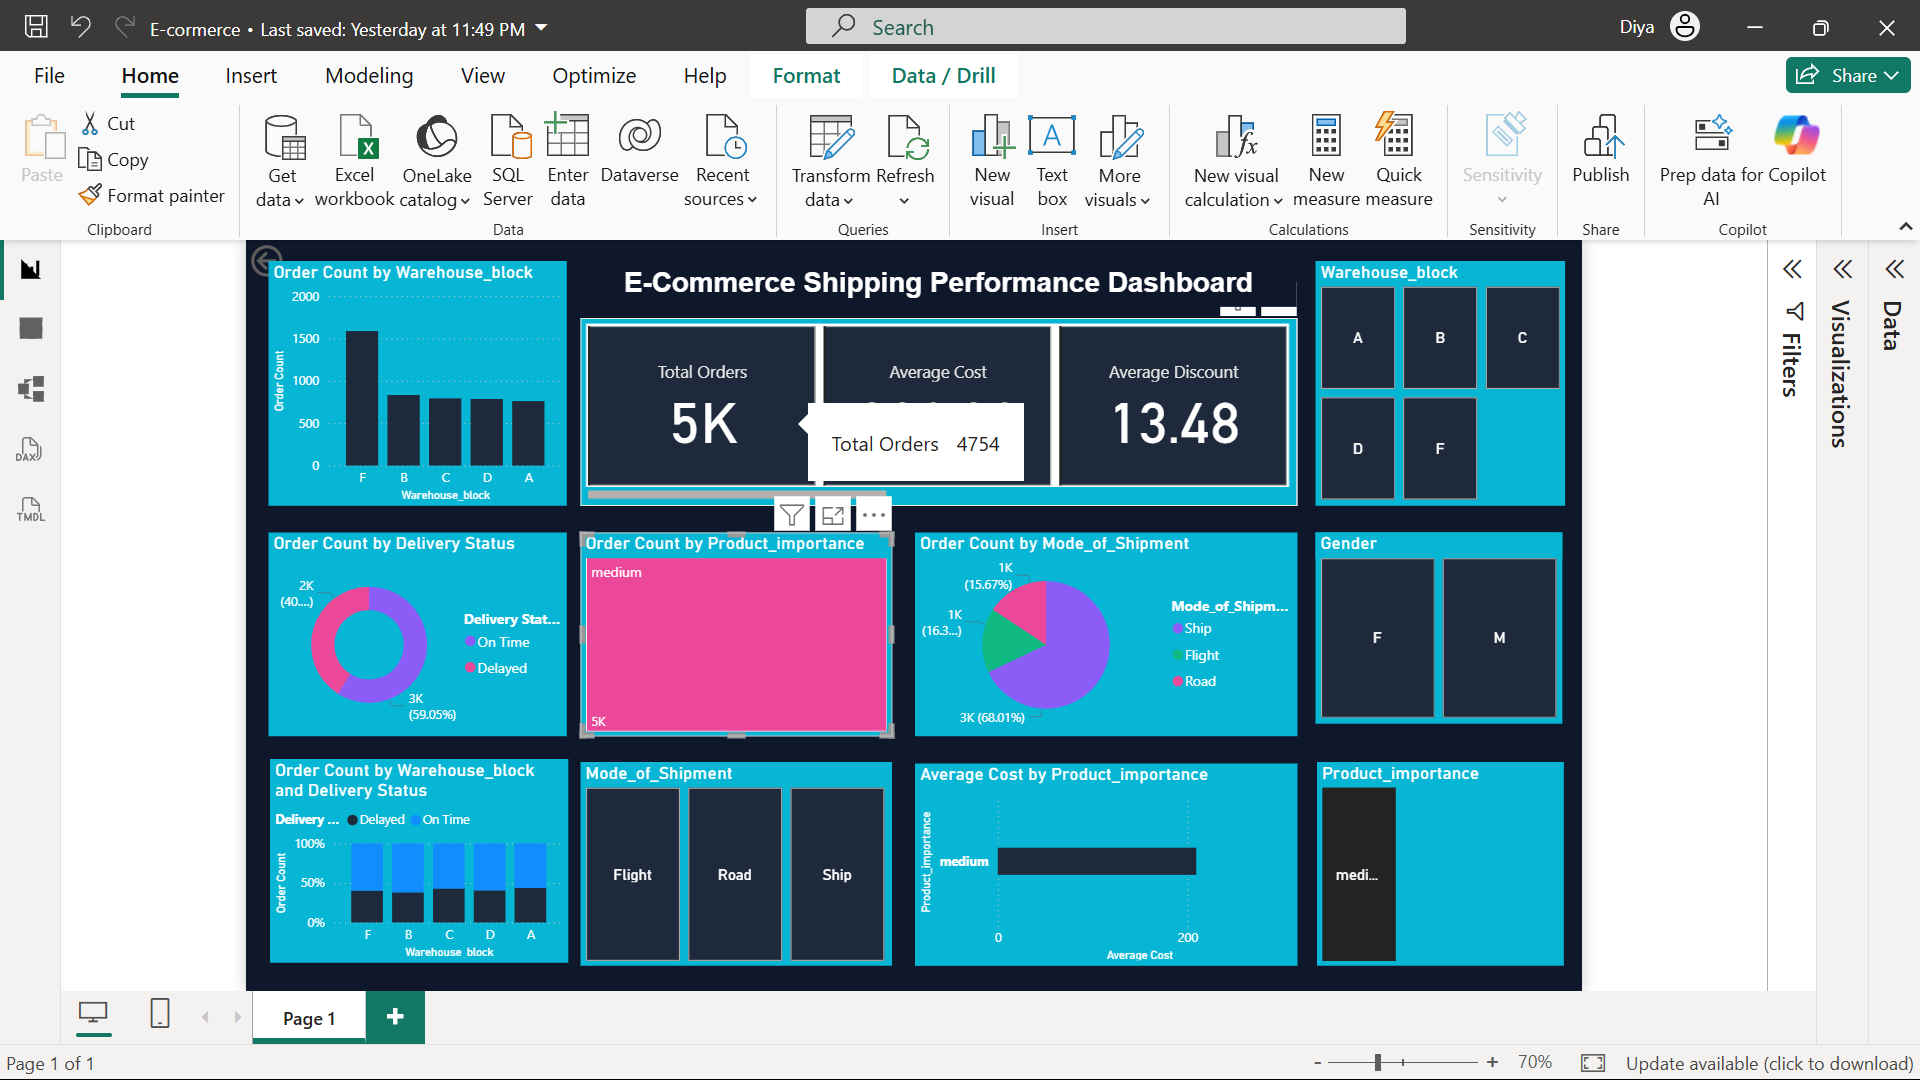

The page's visual inventory and layout, read from the dashboard file:
{"tool":"powerbi","page":{"name":"Page 1","canvas":[1280,720],"ordinal":0},"visuals":[{"type":"cardVisual","fields":{"Data":["Ecommerce Shipping Data.Total Orders","Ecommerce Shipping Data.Average Cost","Ecommerce Shipping Data.Average Discount","Ecommerce Shipping Data.Average Rating","Ecommerce Shipping Data.Average Weight","Ecommerce Shipping Data.Delayed %","Ecommerce Shipping Data.On Time %"]},"box":[321.2,74.2,686.4,180.3],"z":0},{"type":"actionButton","box":[0,0,100,40],"z":1000},{"type":"treemap","fields":{"Group":["Ecommerce Shipping Data.Product_importance"],"Values":["Ecommerce Shipping Data.Order Count"]},"box":[321.2,280.3,298.5,195.5],"z":2000},{"type":"clusteredColumnChart","fields":{"Category":["Ecommerce Shipping Data.Warehouse_block"],"Y":["Ecommerce Shipping Data.Order Count"]},"box":[21.2,19.7,286.2,234.7],"z":3000},{"type":"pieChart","fields":{"Category":["Ecommerce Shipping Data.Mode_of_Shipment"],"Y":["Ecommerce Shipping Data.Order Count"]},"box":[640.9,280.3,366.7,195.5],"z":4000},{"type":"donutChart","fields":{"Category":["Ecommerce Shipping Data.Delivery Status"],"Y":["Ecommerce Shipping Data.Order Count"]},"box":[21.2,280.1,286.2,195.3],"z":5000},{"type":"hundredPercentStackedColumnChart","fields":{"Category":["Ecommerce Shipping Data.Warehouse_block"],"Y":["Ecommerce Shipping Data.Order Count"],"Series":["Ecommerce Shipping Data.Delivery Status"]},"box":[22.7,498.2,286.2,195.3],"z":6000},{"type":"advancedSlicerVisual","fields":{"Values":["Ecommerce Shipping Data.Warehouse_block"]},"box":[1025.8,19.7,239.4,234.8],"z":7000},{"type":"advancedSlicerVisual","fields":{"Values":["Ecommerce Shipping Data.Mode_of_Shipment"]},"box":[321.2,500,298.5,195.5],"z":8000},{"type":"advancedSlicerVisual","fields":{"Values":["Ecommerce Shipping Data.Gender"]},"box":[1025.8,280.3,236.4,183.3],"z":9000},{"type":"advancedSlicerVisual","fields":{"Values":["Ecommerce Shipping Data.Product_importance"]},"box":[1027.3,500,236.4,195.5],"z":10000},{"type":"clusteredBarChart","fields":{"Category":["Ecommerce Shipping Data.Product_importance"],"Y":["Ecommerce Shipping Data.Average Cost"]},"box":[640.9,501.5,366.7,193.9],"z":11000},{"type":"textbox","box":[321.2,19.7,686.4,43.9],"z":12000}]}

Visuals, with their boxes on the page's 1280x720 design canvas (x1, y1, x2, y2). These are canvas units, not pixel positions in the 1920x1080 screenshot, which may show the page scaled, cropped or inside an application window:
cardVisual - Ecommerce Shipping Data.Total Orders x Ecommerce Shipping Data.Average Cost: bbox(321, 74, 1008, 254)
actionButton: bbox(0, 0, 100, 40)
treemap - Ecommerce Shipping Data.Product_importance x Ecommerce Shipping Data.Order Count: bbox(321, 280, 620, 476)
clusteredColumnChart - Ecommerce Shipping Data.Warehouse_block x Ecommerce Shipping Data.Order Count: bbox(21, 20, 307, 254)
pieChart - Ecommerce Shipping Data.Mode_of_Shipment x Ecommerce Shipping Data.Order Count: bbox(641, 280, 1008, 476)
donutChart - Ecommerce Shipping Data.Delivery Status x Ecommerce Shipping Data.Order Count: bbox(21, 280, 307, 475)
hundredPercentStackedColumnChart - Ecommerce Shipping Data.Warehouse_block x Ecommerce Shipping Data.Order Count: bbox(23, 498, 309, 694)
advancedSlicerVisual - Ecommerce Shipping Data.Warehouse_block: bbox(1026, 20, 1265, 254)
advancedSlicerVisual - Ecommerce Shipping Data.Mode_of_Shipment: bbox(321, 500, 620, 696)
advancedSlicerVisual - Ecommerce Shipping Data.Gender: bbox(1026, 280, 1262, 464)
advancedSlicerVisual - Ecommerce Shipping Data.Product_importance: bbox(1027, 500, 1264, 696)
clusteredBarChart - Ecommerce Shipping Data.Product_importance x Ecommerce Shipping Data.Average Cost: bbox(641, 502, 1008, 695)
textbox: bbox(321, 20, 1008, 64)
